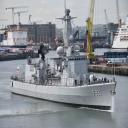Fragata: (10, 39, 118, 117)
